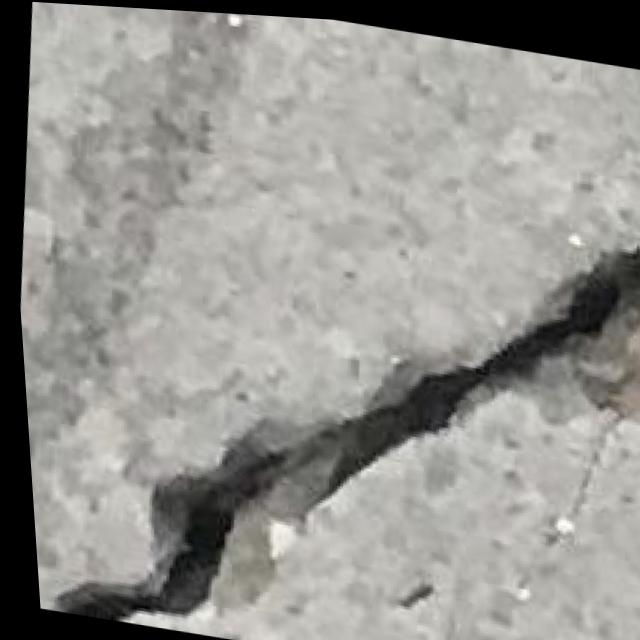Crack: (11, 126, 640, 640)
